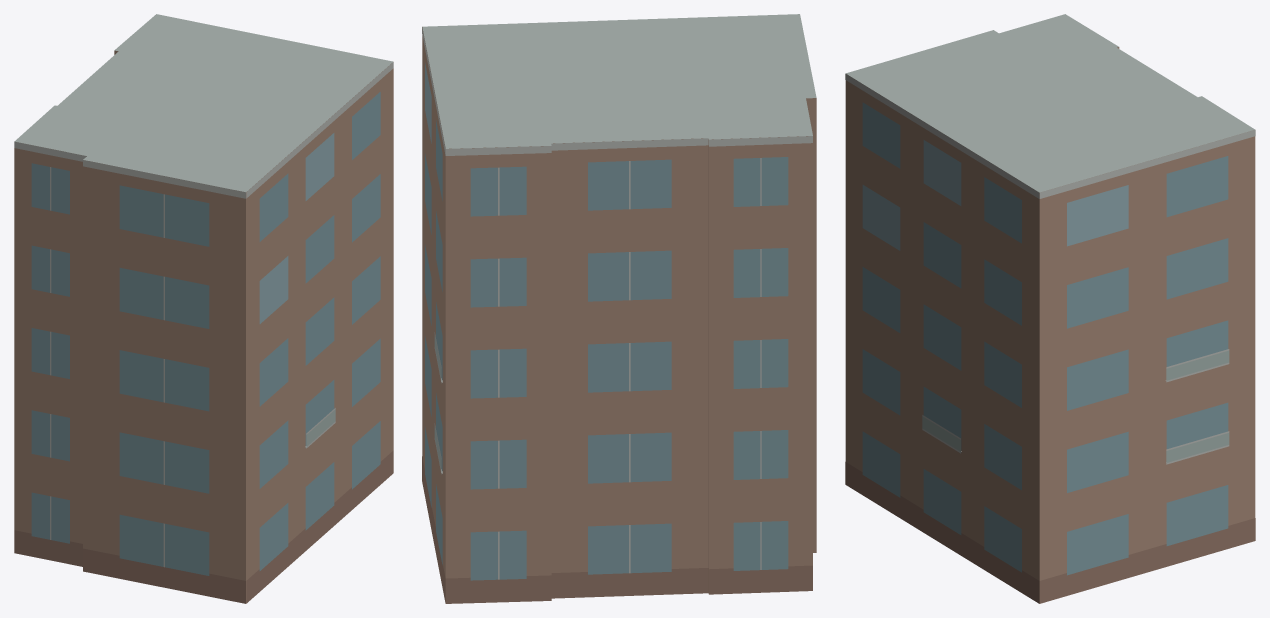
Rendered from survey-upis-32657951.glb.
The picture shows the model from 3 angles, left to right: view 1: azimuth 30°, elevation 25°; view 2: azimuth 150°, elevation 25°; view 3: azimuth 270°, elevation 25°; orthographic projection. The views are drawn at different scales.
Visible parts, largest first — view 1: survey-upis-32657951.tmp; view 2: survey-upis-32657951.tmp; view 3: survey-upis-32657951.tmp.
Part boxes in pixels (x1=…): survey-upis-32657951.tmp: x1=14, y1=14, x2=393, y2=603; survey-upis-32657951.tmp: x1=422, y1=14, x2=816, y2=603; survey-upis-32657951.tmp: x1=845, y1=14, x2=1255, y2=603.
Size of the model in its own units: 14.36 by 15.4 by 13.92.
